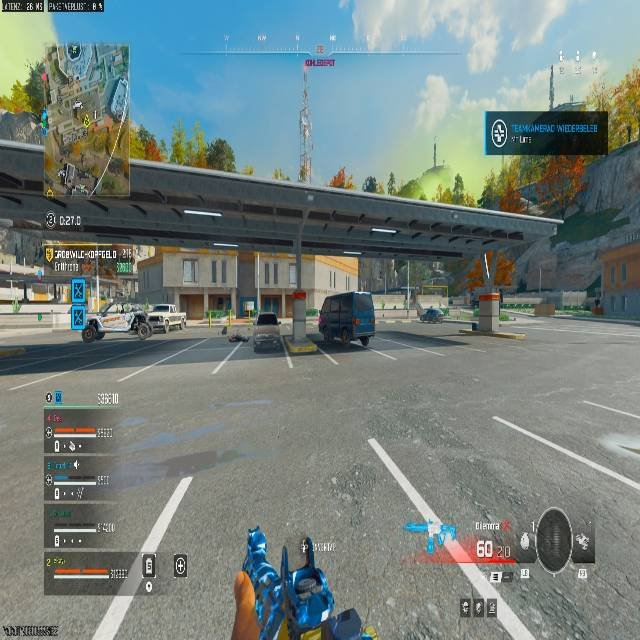player: (233, 533, 380, 640), (80, 317, 107, 342), (127, 309, 152, 336)
